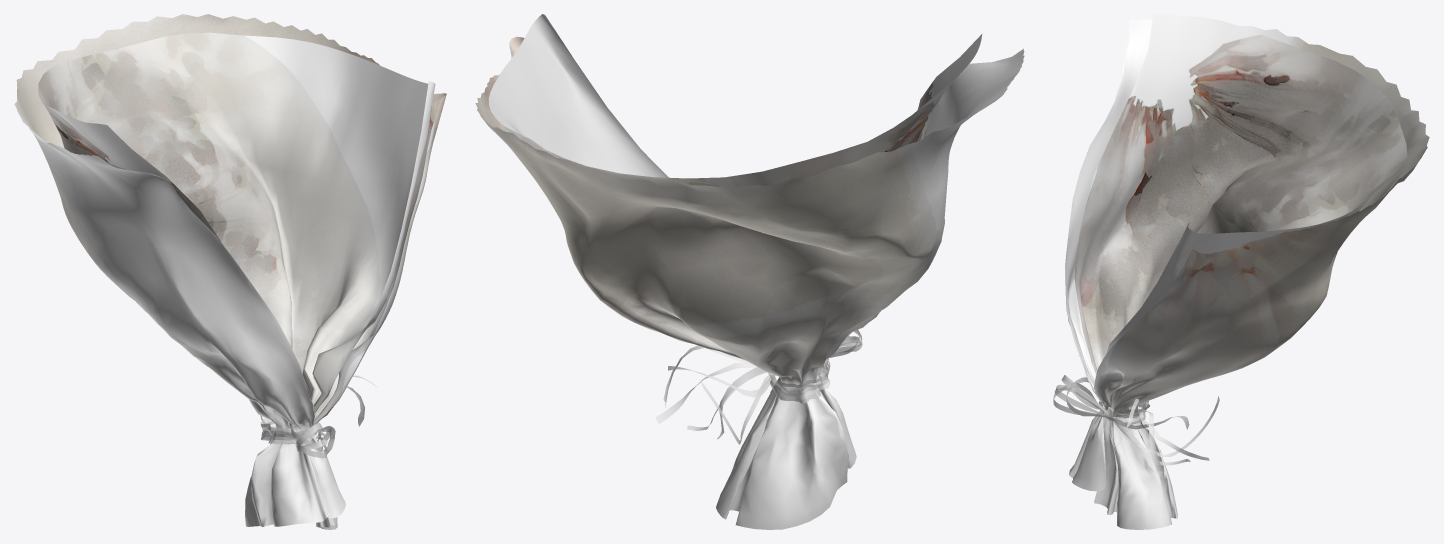
File: CapuchonSOLO.fbx
The picture shows the model from 3 angles, left to right: view 1: azimuth 30°, elevation 25°; view 2: azimuth 150°, elevation 25°; view 3: azimuth 270°, elevation 25°; orthographic projection. The views are drawn at different scales.
Visible parts, largest first — view 1: inner, outer, ribbon, parcel_knot; view 2: outer, inner, ribbon, parcel_knot; view 3: inner, outer, ribbon, parcel_knot.
Boxes of the visible parts, left/top/right/bottom form: inner: left=38, top=32, right=435, bottom=429; outer: left=14, top=14, right=446, bottom=529; ribbon: left=260, top=375, right=376, bottom=458; parcel_knot: left=260, top=418, right=309, bottom=444; outer: left=475, top=36, right=1024, bottom=529; inner: left=488, top=14, right=982, bottom=187; ribbon: left=655, top=329, right=862, bottom=444; parcel_knot: left=767, top=358, right=830, bottom=403; inner: left=1074, top=14, right=1407, bottom=376; outer: left=1065, top=18, right=1429, bottom=529; ribbon: left=1053, top=375, right=1219, bottom=478; parcel_knot: left=1096, top=396, right=1150, bottom=424.
Size of the model in its own units: 58.16 by 60.98 by 49.83.
Materials: 3 (2 with a texture image).
